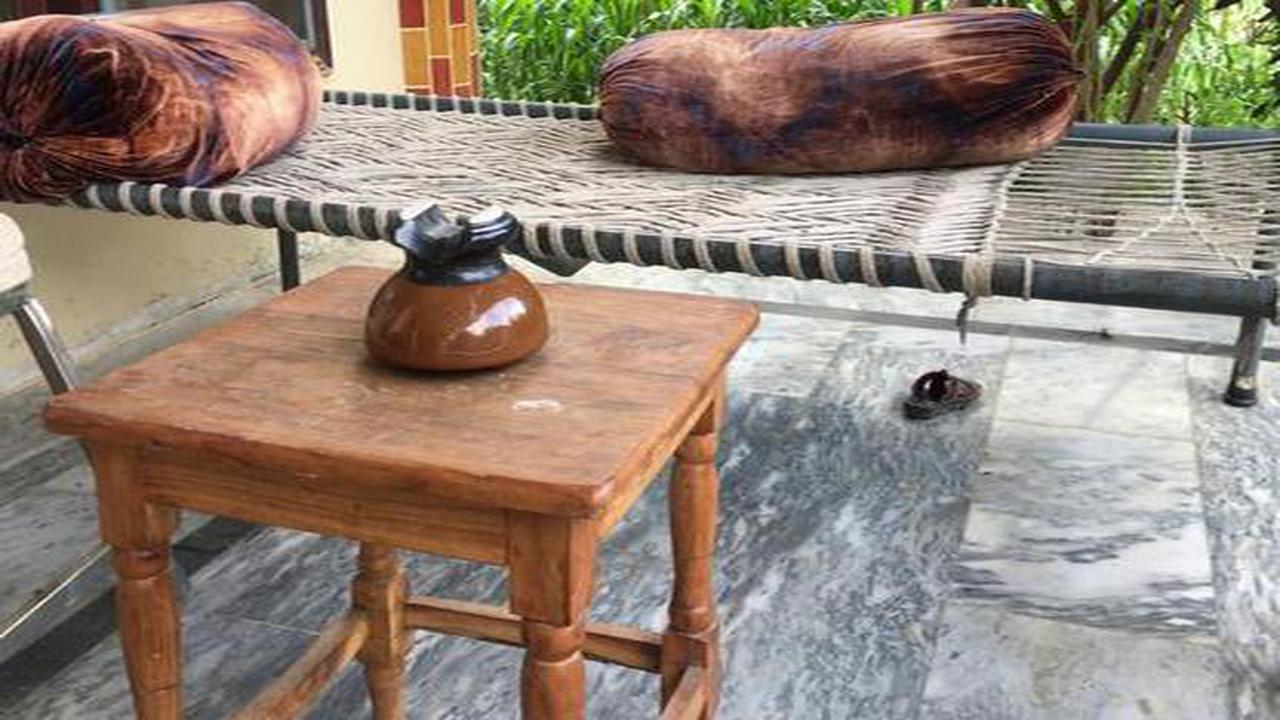insulator_pin: (351, 193, 567, 381)
